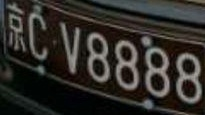C: (28, 5, 47, 60)
